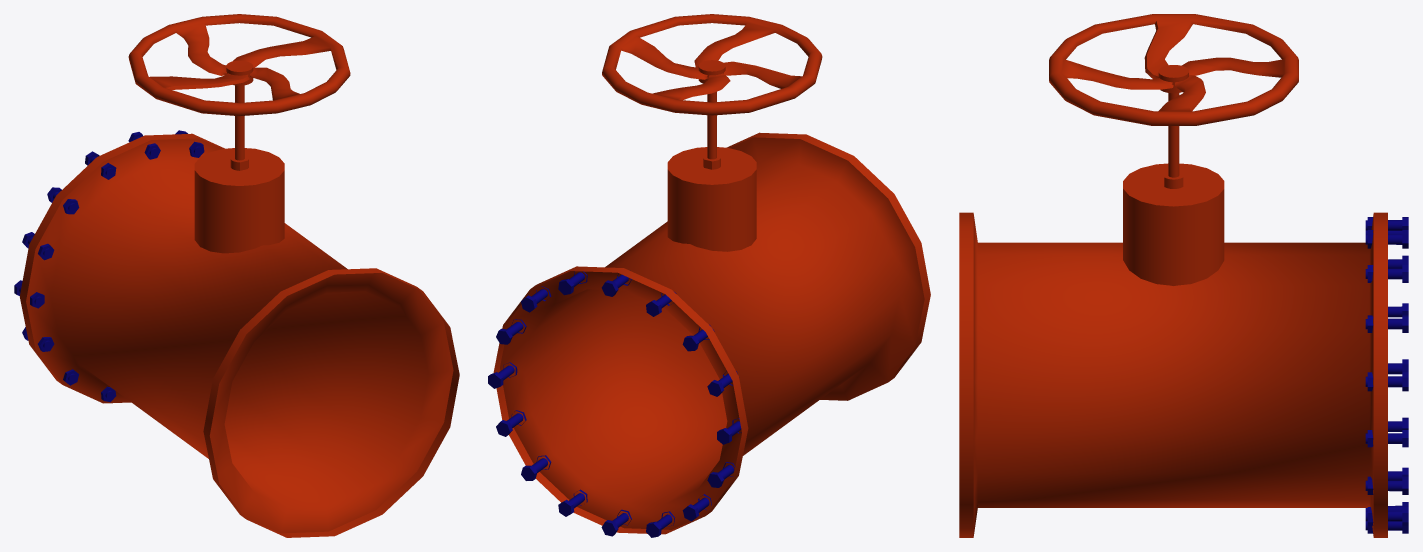
The model's file is MSP_Valve01_BoltX17_01_LOD0.FBX.
3 renders of one model, left to right at view 1: azimuth 30°, elevation 25°; view 2: azimuth 150°, elevation 25°; view 3: azimuth 270°, elevation 25°, orthographic. The views are drawn at different scales.
Parts seen in each view (by area): view 1: PipeValve_up1_01_LOD0, Valve_01_LOD0, Bolt_03_LOD0; view 2: PipeValve_up1_01_LOD0, Valve_01_LOD0, Bolt_03_LOD0; view 3: PipeValve_up1_01_LOD0, Valve_01_LOD0, Bolt_03_LOD0.
Boxes of the visible parts, box(x1,y1,x2,y2) form: PipeValve_up1_01_LOD0: box(19, 60, 459, 537); Valve_01_LOD0: box(128, 14, 350, 116); Bolt_03_LOD0: box(14, 130, 204, 402); PipeValve_up1_01_LOD0: box(493, 60, 930, 534); Valve_01_LOD0: box(602, 14, 822, 115); Bolt_03_LOD0: box(488, 271, 741, 537); PipeValve_up1_01_LOD0: box(959, 65, 1387, 537); Valve_01_LOD0: box(1049, 14, 1298, 125); Bolt_03_LOD0: box(1365, 217, 1408, 533).
Size of the model in its own units: 38 by 59.08 by 52.42.
